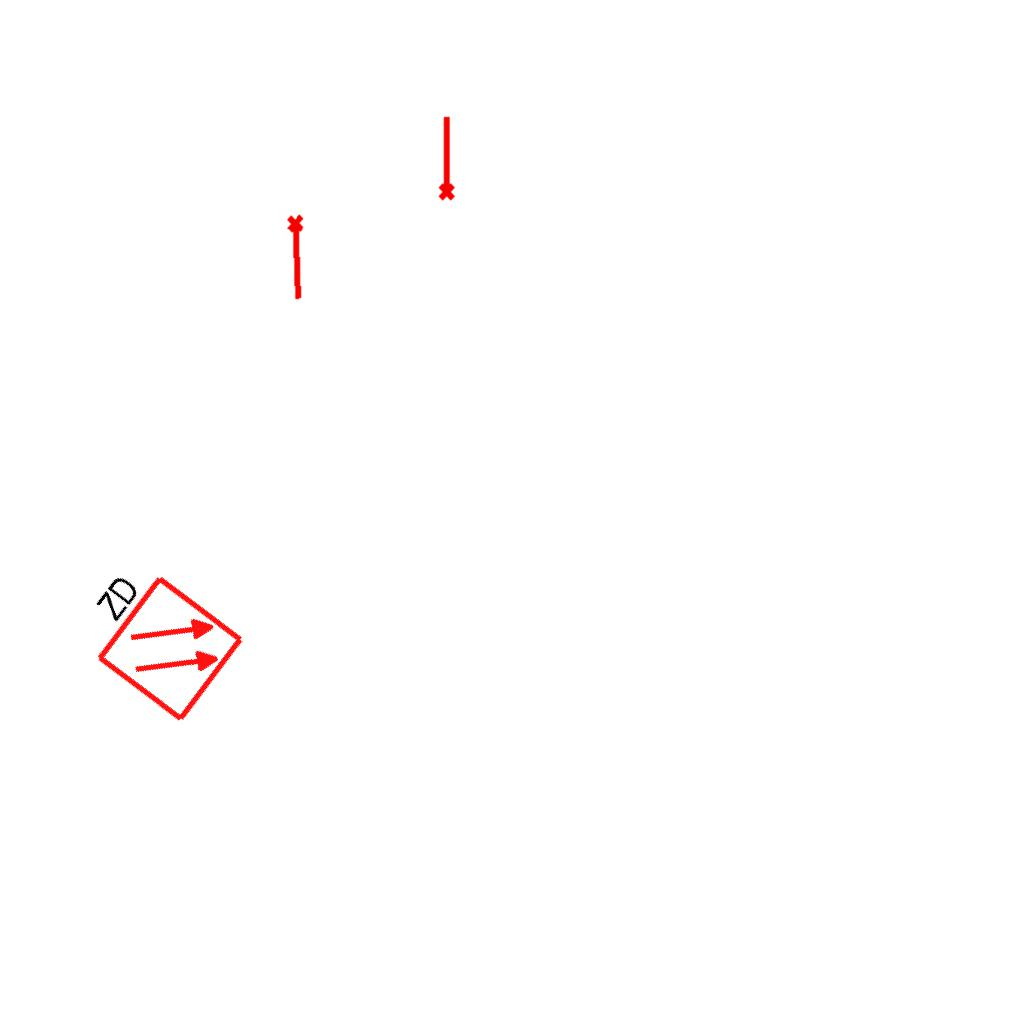ASR_Ansaugoeffnung: (284, 213, 312, 302), (434, 114, 457, 202)
ZD_Melder_in_Zwischendecke_mit_Revisionsoeffnung_mind_40_x_40_cm: (60, 548, 248, 729)
